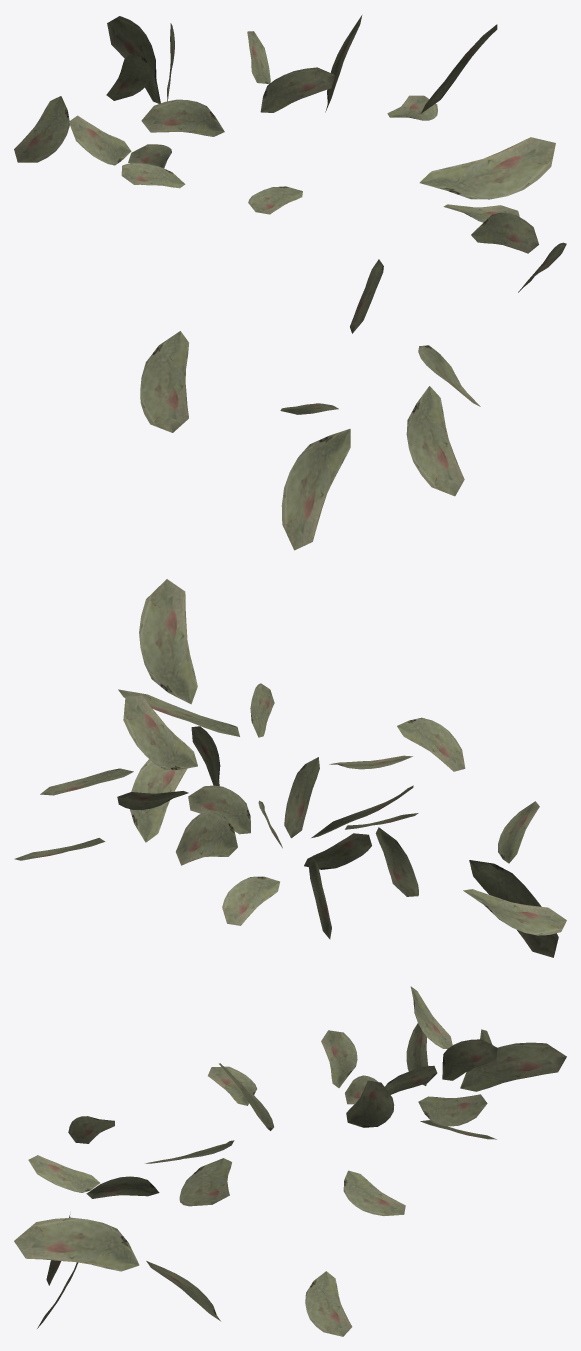
Rendered from Leaves.fbx.
3 views of the same model, one above another, from view 1: azimuth 30°, elevation 25°; view 2: azimuth 150°, elevation 25°; view 3: azimuth 270°, elevation 25° (orthographic). The views are drawn at different scales.
Visible parts, largest first — view 1: Leaves_Low; view 2: Leaves_Low; view 3: Leaves_Low.
Part boxes in pixels (x1,y1,x2,y2): Leaves_Low: (14, 15, 566, 550); Leaves_Low: (14, 579, 566, 957); Leaves_Low: (14, 986, 566, 1336).
Bounding box in the file's own units: 1.16 × 0.9194 × 1.32.
